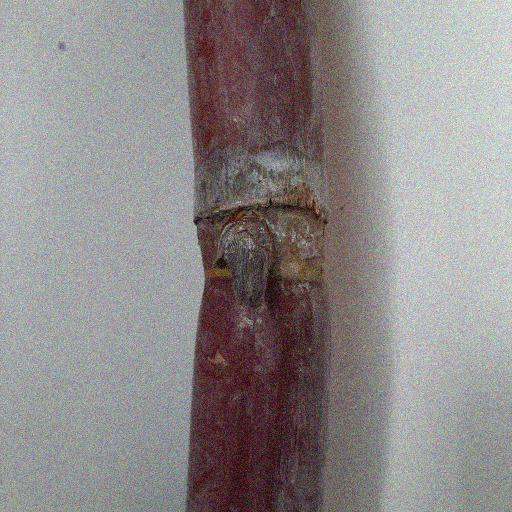Bud: (225, 218, 270, 305)
